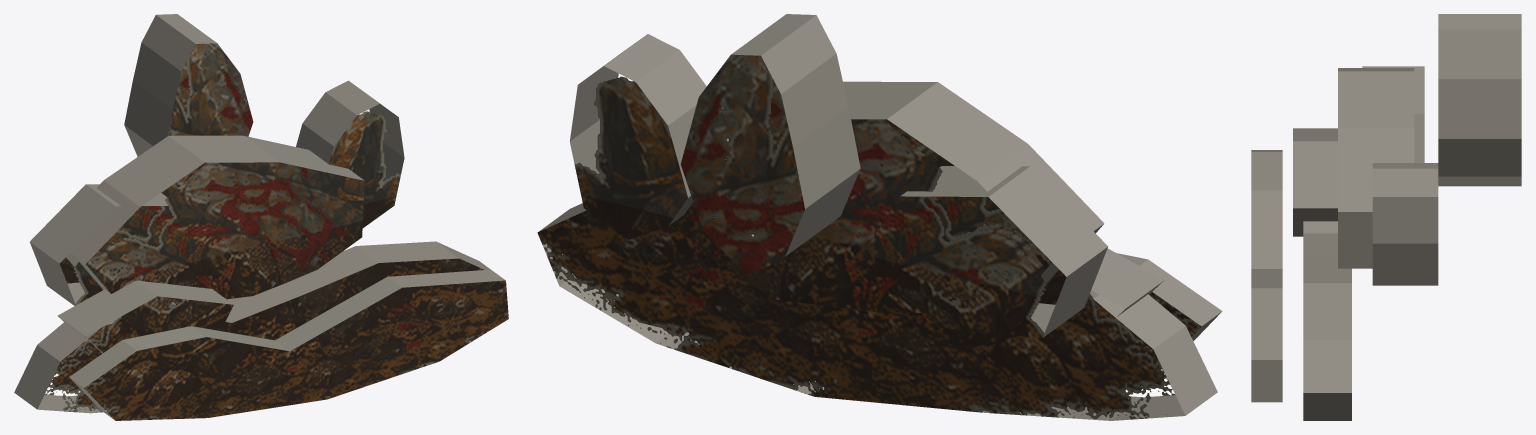
The model's file is SM_GIA_BloodAxeCairnSlabCluster_A01_Test2Manual_LOD0.fbx.
The picture shows the model from 3 angles, left to right: view 1: azimuth 30°, elevation 25°; view 2: azimuth 150°, elevation 25°; view 3: azimuth 270°, elevation 25°; orthographic projection. The views are drawn at different scales.
Visible parts, largest first — view 1: A1_ImageRelief_FrontPebbleRubble_LOD0, A1_ImageRelief_MainPaintedSlab_LOD0, A1_ImageRelief_GroundRubbleApron_LOD0, A1_ImageRelief_RearTallSlab_LOD0, A1_ImageRelief_RightUpright_LOD0, A1_ImageRelief_LeftStoneStackFront_LOD0, A1_ImageRelief_LeftStoneStackBack_LOD0; view 2: A1_ImageRelief_GroundRubbleApron_LOD0, A1_ImageRelief_RearTallSlab_LOD0, A1_ImageRelief_MainPaintedSlab_LOD0, A1_ImageRelief_LeftStoneStackBack_LOD0, A1_ImageRelief_RightUpright_LOD0, A1_ImageRelief_LeftStoneStackFront_LOD0, A1_ImageRelief_FrontPebbleRubble_LOD0; view 3: A1_ImageRelief_RearTallSlab_LOD0, A1_ImageRelief_MainPaintedSlab_LOD0, A1_ImageRelief_GroundRubbleApron_LOD0, A1_ImageRelief_RightUpright_LOD0, A1_ImageRelief_FrontPebbleRubble_LOD0, A1_ImageRelief_LeftStoneStackFront_LOD0, A1_ImageRelief_LeftStoneStackBack_LOD0.
Part boxes in pixels (x1,y1,x2,y2): A1_ImageRelief_FrontPebbleRubble_LOD0: (69, 269, 508, 420); A1_ImageRelief_MainPaintedSlab_LOD0: (66, 135, 364, 299); A1_ImageRelief_GroundRubbleApron_LOD0: (14, 241, 490, 413); A1_ImageRelief_RearTallSlab_LOD0: (124, 14, 253, 156); A1_ImageRelief_RightUpright_LOD0: (296, 80, 404, 227); A1_ImageRelief_LeftStoneStackFront_LOD0: (57, 280, 233, 353); A1_ImageRelief_LeftStoneStackBack_LOD0: (30, 184, 173, 305); A1_ImageRelief_GroundRubbleApron_LOD0: (537, 203, 1217, 420); A1_ImageRelief_RearTallSlab_LOD0: (680, 14, 860, 277); A1_ImageRelief_MainPaintedSlab_LOD0: (671, 81, 1104, 314); A1_ImageRelief_LeftStoneStackBack_LOD0: (866, 166, 1108, 338); A1_ImageRelief_RightUpright_LOD0: (569, 34, 706, 239); A1_ImageRelief_LeftStoneStackFront_LOD0: (992, 248, 1164, 342); A1_ImageRelief_FrontPebbleRubble_LOD0: (1116, 253, 1222, 369); A1_ImageRelief_RearTallSlab_LOD0: (1438, 14, 1521, 186); A1_ImageRelief_MainPaintedSlab_LOD0: (1338, 68, 1414, 268); A1_ImageRelief_GroundRubbleApron_LOD0: (1303, 221, 1351, 420); A1_ImageRelief_RightUpright_LOD0: (1372, 163, 1438, 285); A1_ImageRelief_FrontPebbleRubble_LOD0: (1251, 150, 1282, 402); A1_ImageRelief_LeftStoneStackFront_LOD0: (1293, 128, 1337, 236); A1_ImageRelief_LeftStoneStackBack_LOD0: (1362, 66, 1424, 162).
Size of the model in its own units: 15600 by 32300 by 20900.
